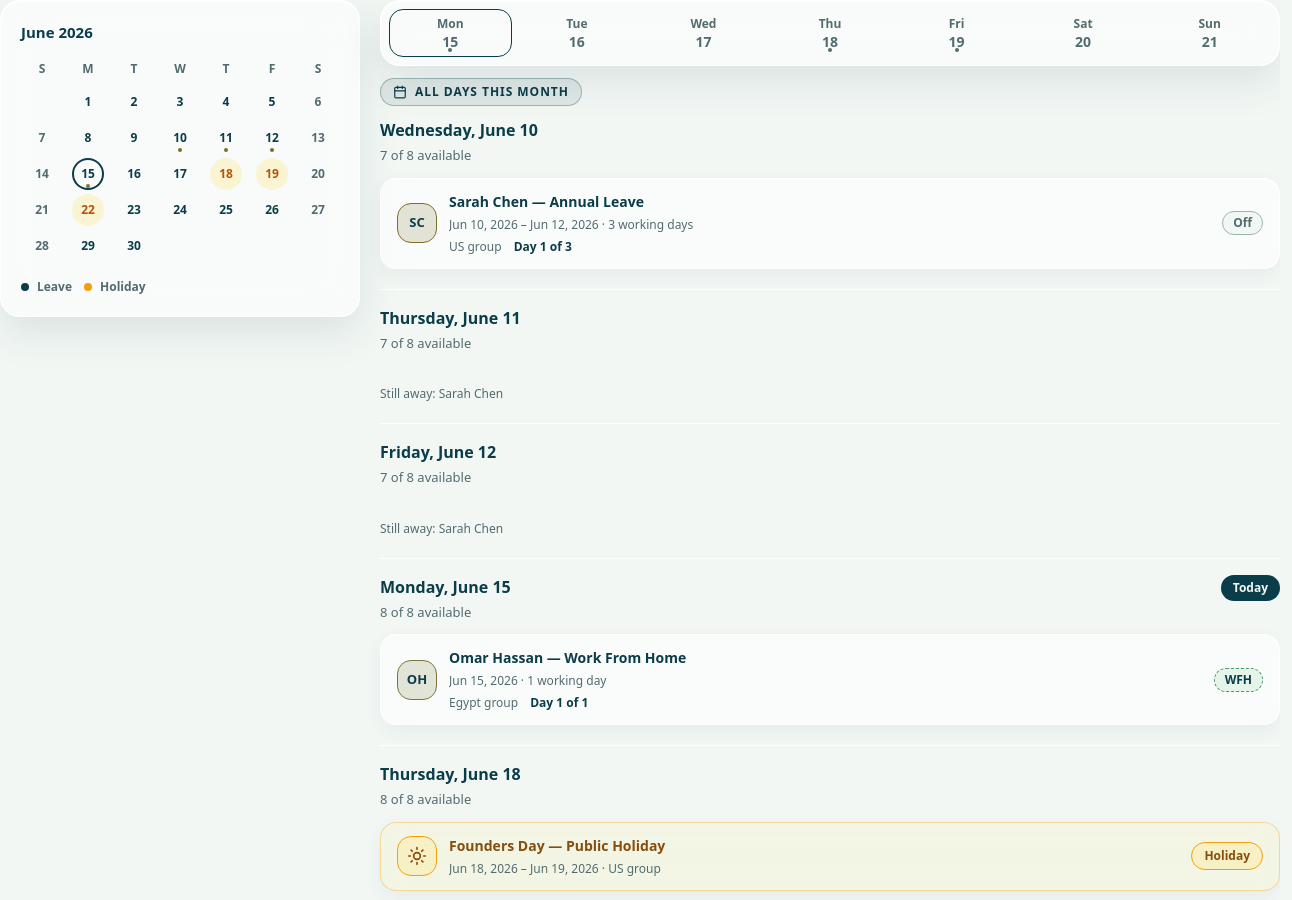
Test case: CalendarAgenda › [P1] explains full coverage when the selected day has no items
What coordinates should you click on to do the following:
click the button named "June 30, no absences"
I would click on:
 (134, 246)
Its box is [118,230,150,262].
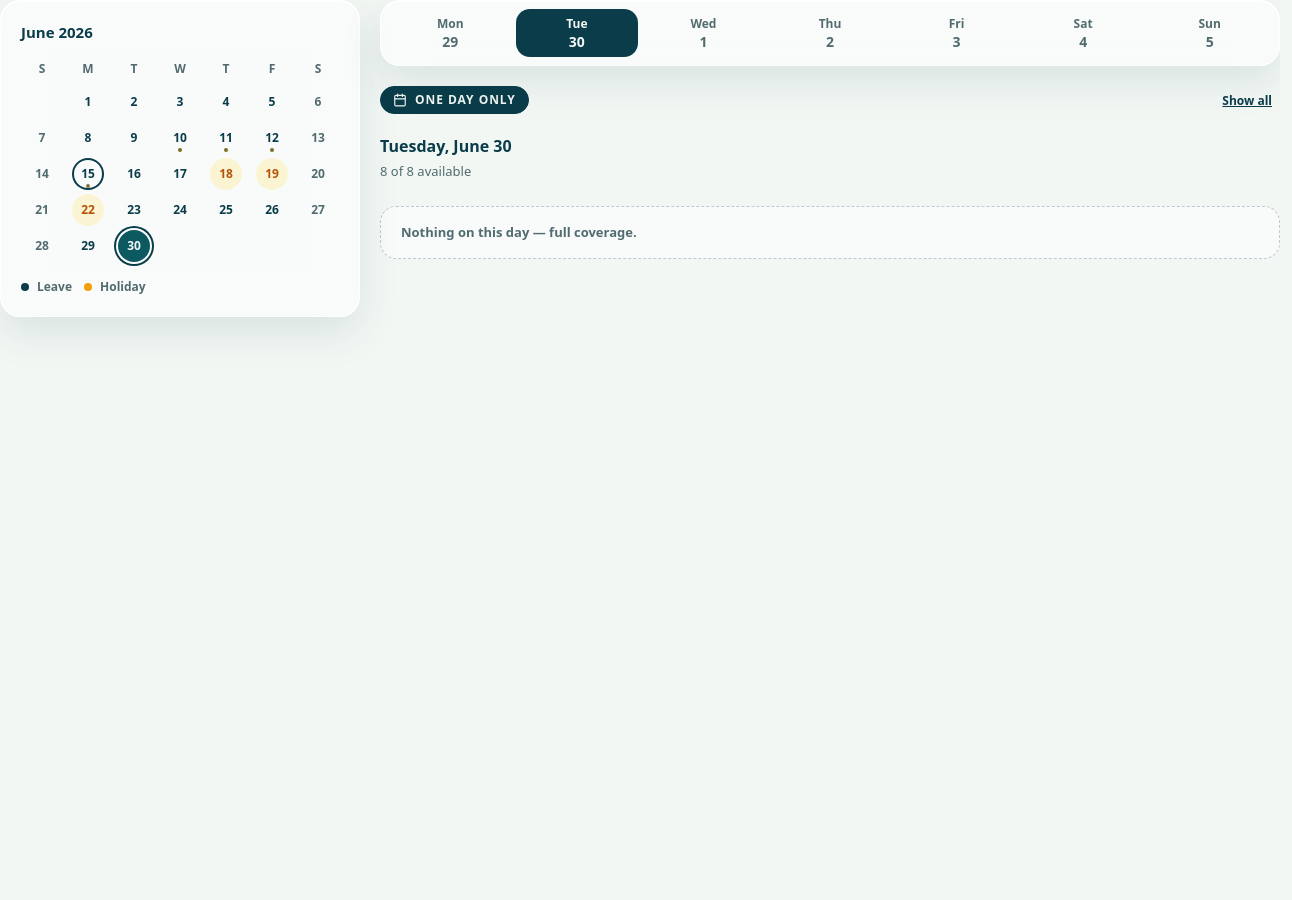
Expected: the message reads "Nothing on this day — full coverage.", [401,222,637,240]
